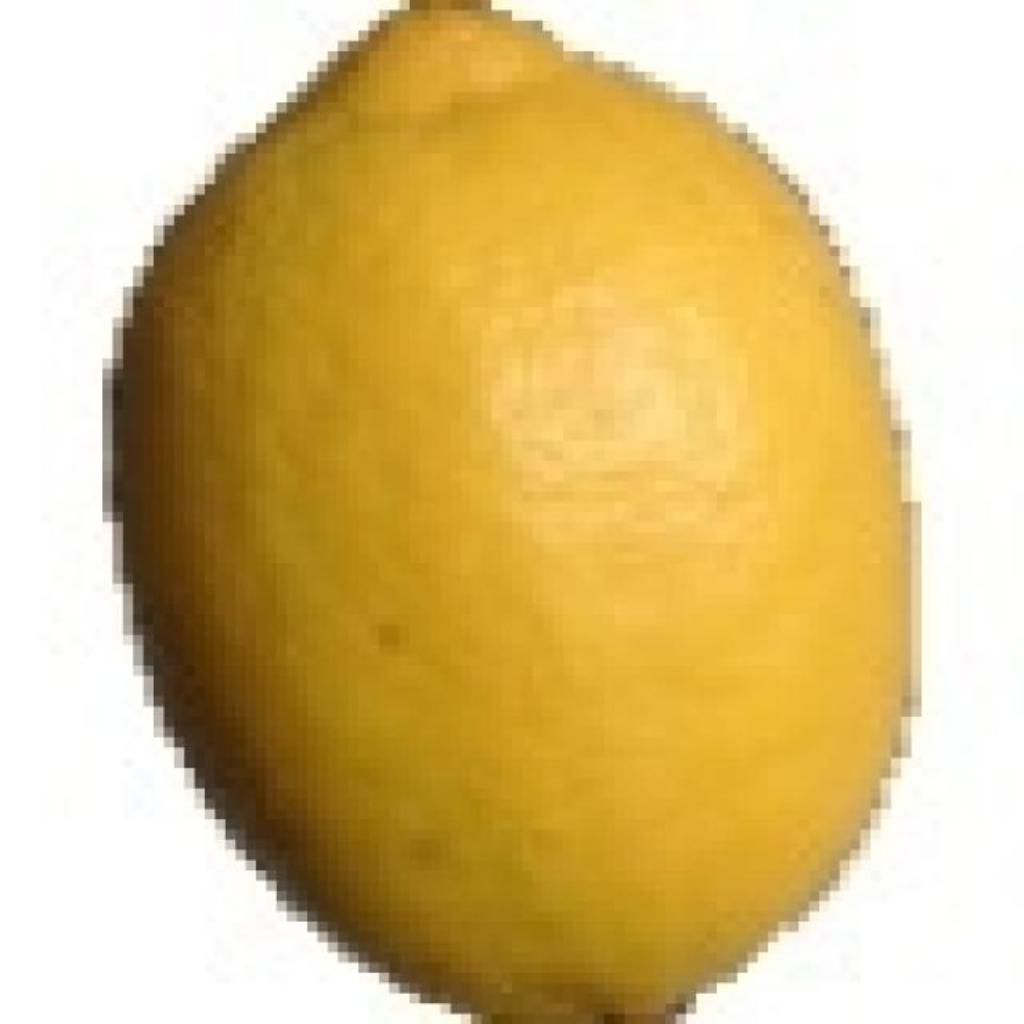lemon: (112, 0, 910, 1024)
